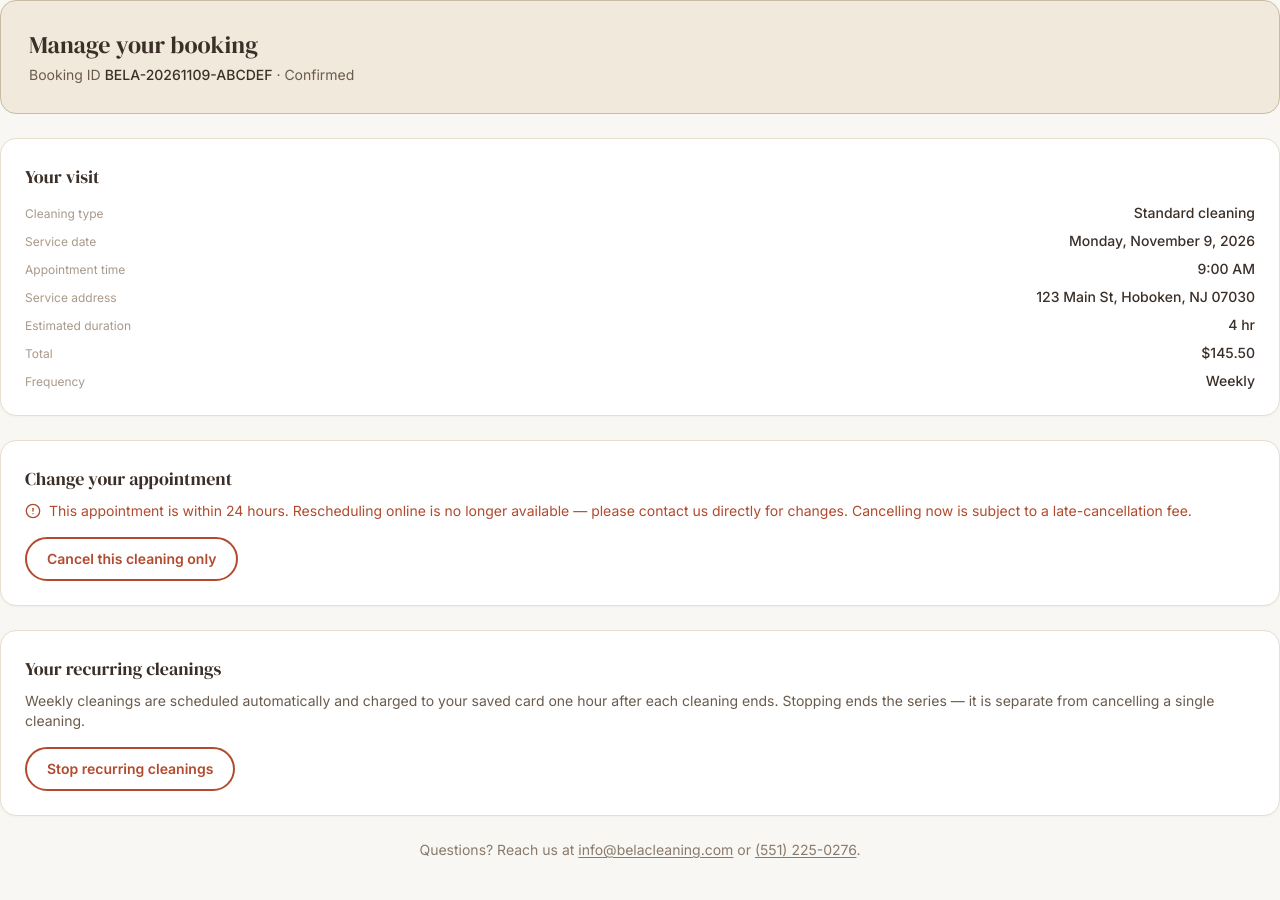
Manage Booking — recurring controls › stop confirmation shows the late fee for the upcoming cleaning, and says it is not a fee for stopping
Click the button "Stop recurring cleanings" at (130, 769), box [25,747,235,791]
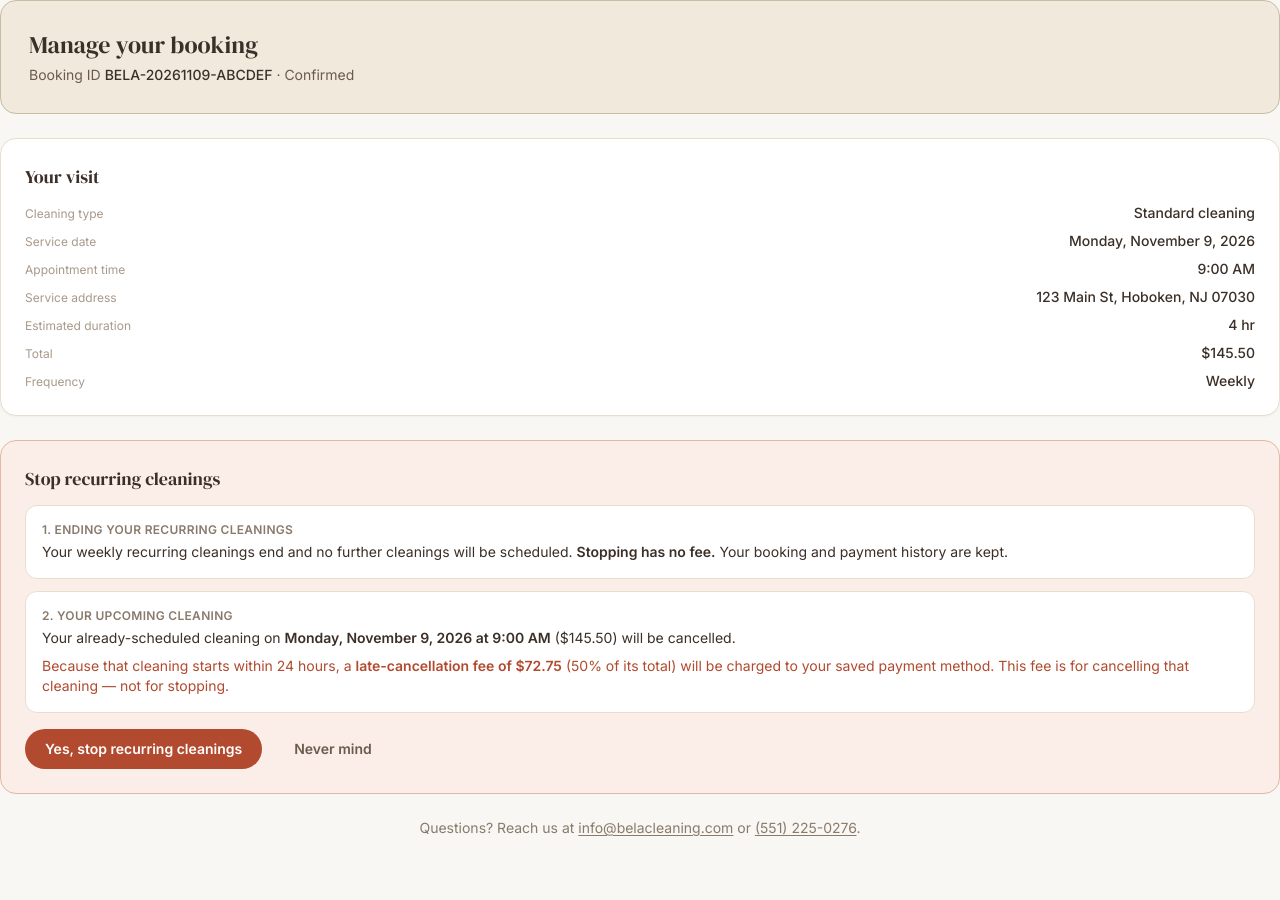
Now the text "Stopping has no fee" is shown, box [576,543,716,560]
Now the text "late-cancellation fee of $72.75" is shown, box [356,657,562,674]
Now the text "This fee is for cancelling that cleaning — not for stopping" is shown, box [42,657,1189,694]
